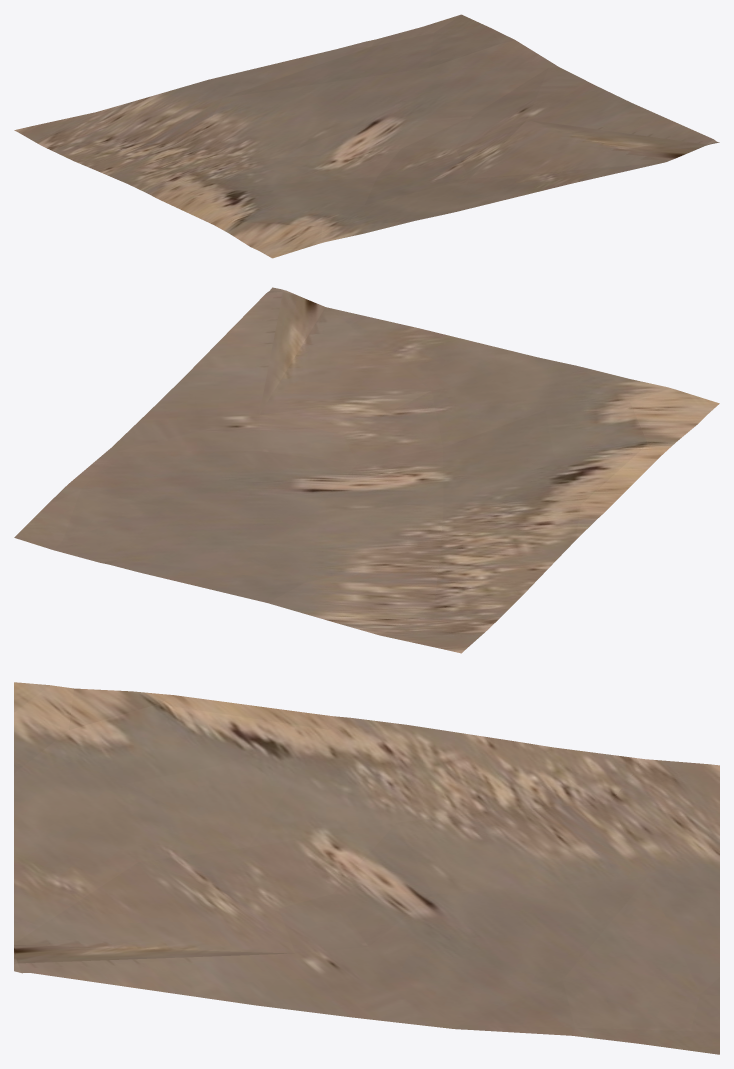
3 views of the same model, one above another, from view 1: azimuth 30°, elevation 25°; view 2: azimuth 150°, elevation 25°; view 3: azimuth 270°, elevation 25° (orthographic). The views are drawn at different scales.
Size of the model in its own units: 2.09 by 0.3124 by 2.09.
Materials: 3 (3 with a texture image).
